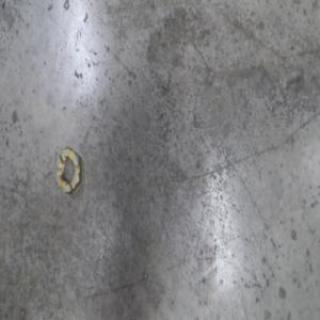Nuttrack_idkeyframe: (52, 144, 82, 195)
